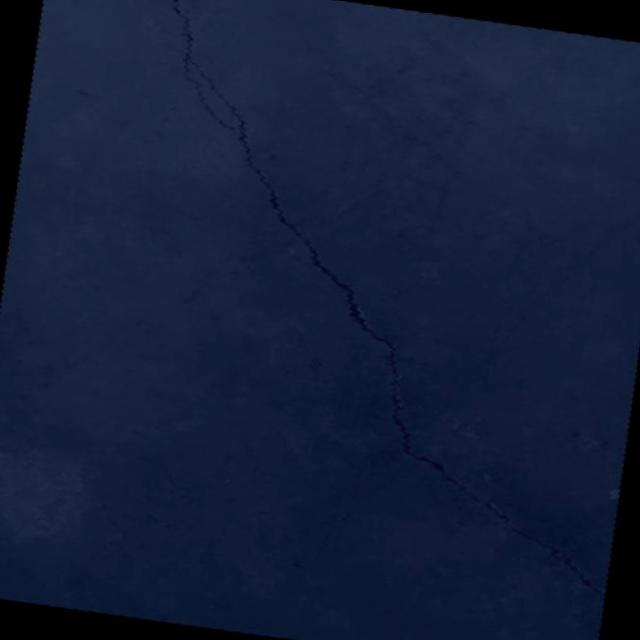crack: (59, 0, 640, 601)
